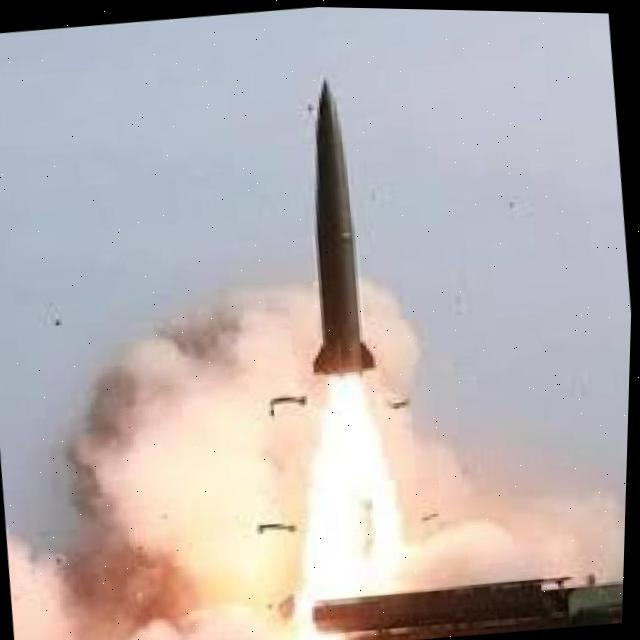missile: (281, 72, 388, 380)
